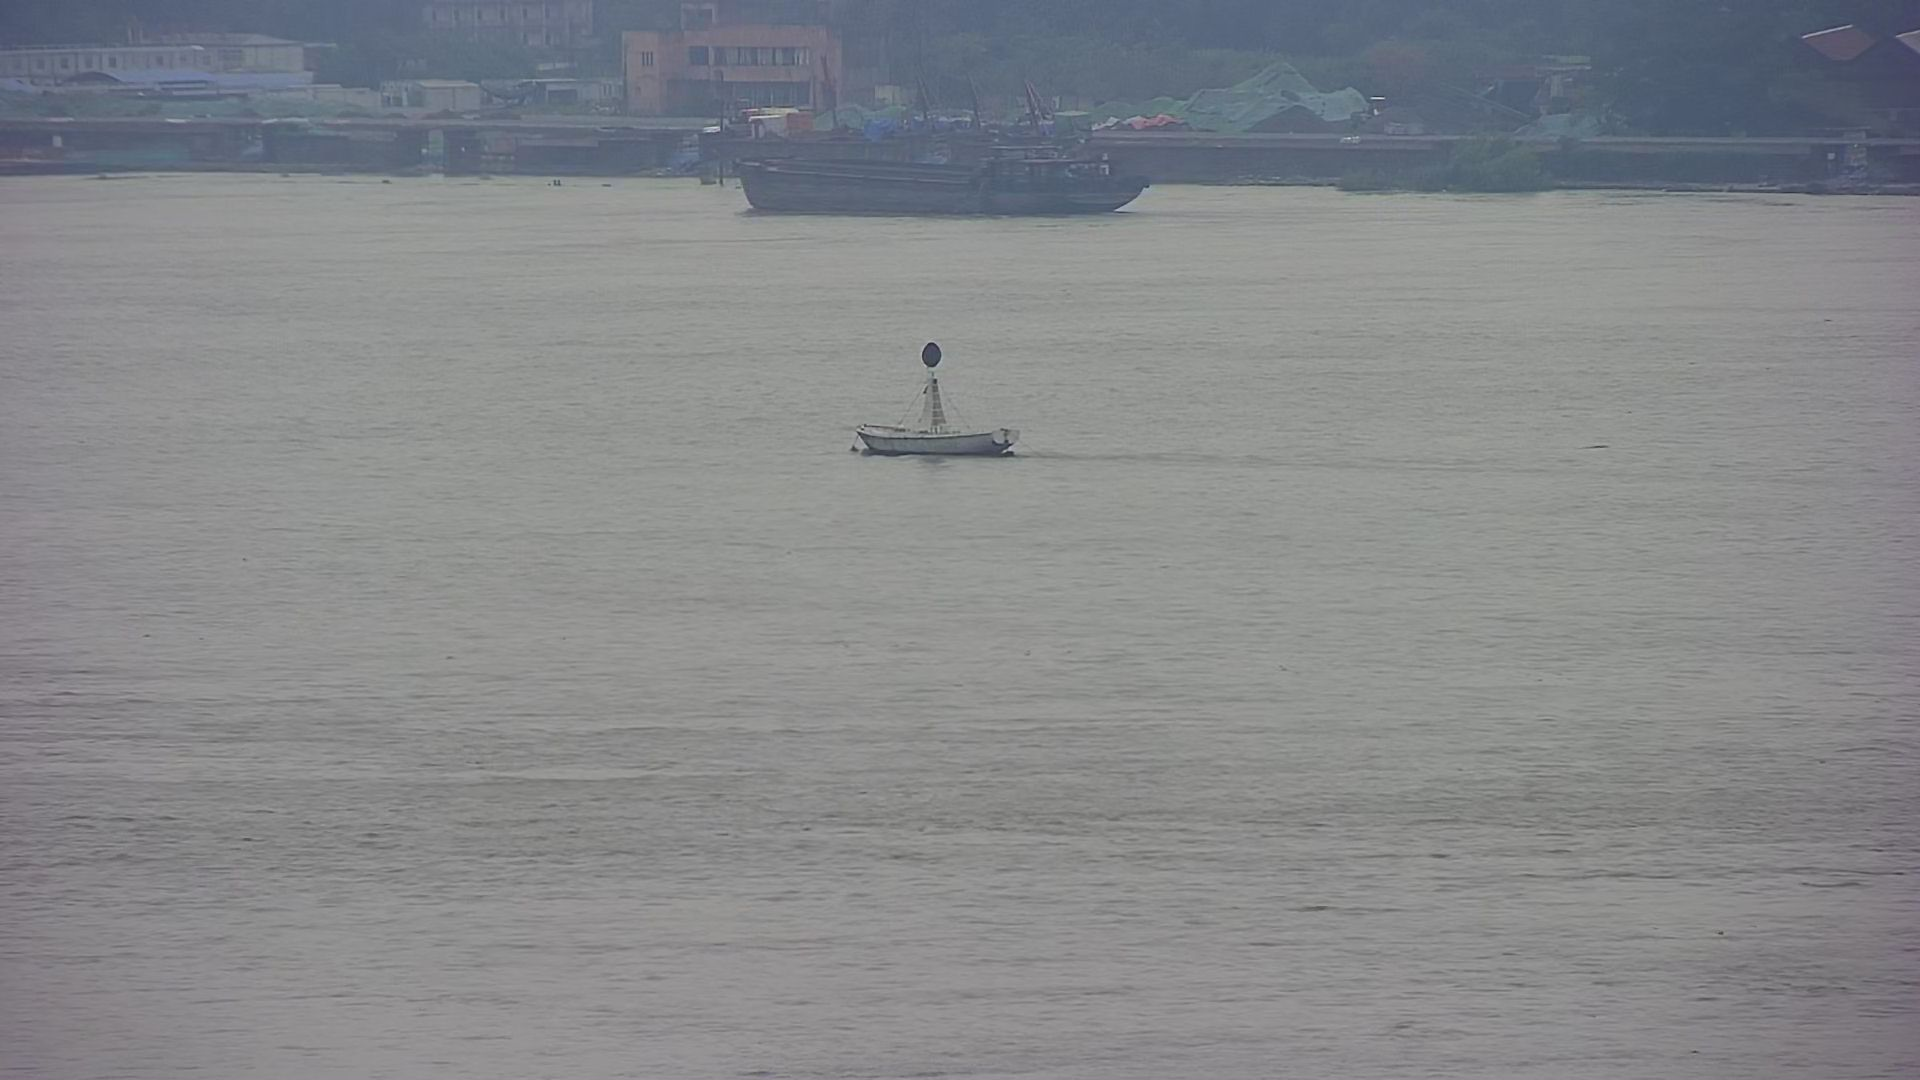boat: (855, 338, 1018, 459)
ship: (733, 141, 1155, 218)
